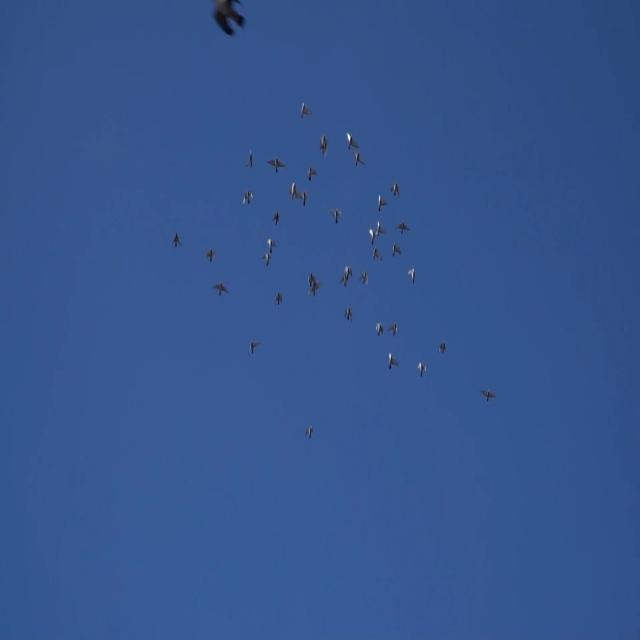bird: (209, 2, 249, 40), (266, 155, 286, 174), (318, 131, 331, 159), (394, 219, 411, 239), (306, 280, 323, 298), (212, 281, 230, 297), (346, 131, 360, 151), (480, 387, 496, 403), (298, 101, 312, 119), (289, 180, 299, 204), (242, 187, 254, 207), (388, 351, 400, 371), (376, 192, 388, 211), (245, 146, 254, 171), (247, 339, 261, 355), (353, 151, 365, 169), (205, 247, 217, 265), (304, 423, 316, 441), (390, 178, 400, 198), (301, 186, 309, 211), (377, 218, 385, 243), (331, 208, 342, 226), (266, 235, 277, 253), (306, 164, 318, 180), (392, 242, 402, 261), (343, 305, 353, 324), (368, 227, 378, 245), (172, 231, 182, 249), (372, 245, 382, 263), (307, 270, 317, 288), (375, 321, 385, 339), (389, 321, 399, 339), (417, 360, 427, 378), (262, 251, 272, 267), (408, 267, 416, 287), (438, 336, 446, 356), (344, 263, 352, 281), (339, 275, 349, 289), (273, 211, 281, 227), (361, 271, 369, 287), (275, 291, 283, 307)
